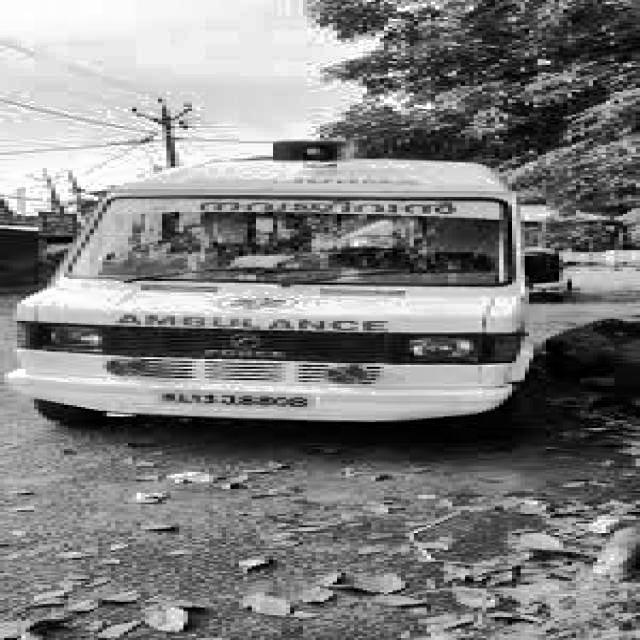LCV: (0, 139, 520, 421)
